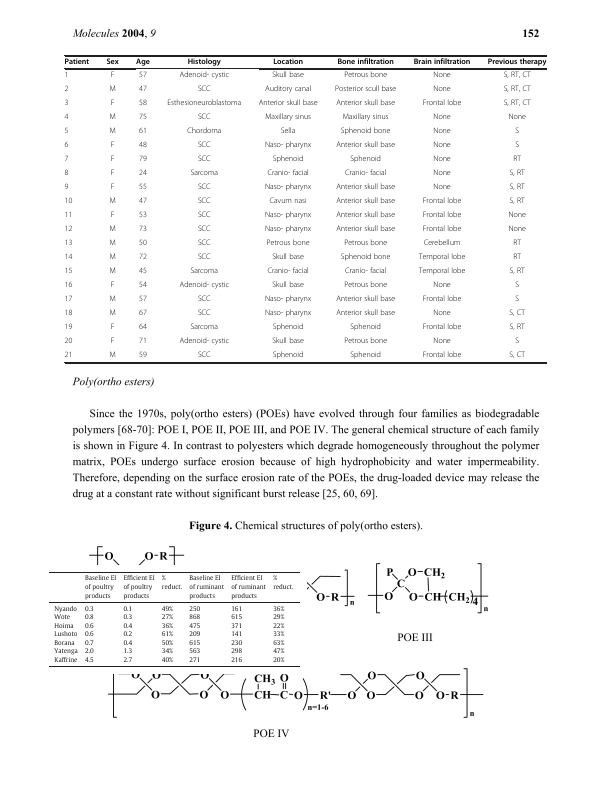borderless: (63, 54, 546, 362), (48, 570, 300, 666)
cell: (188, 575, 225, 600), (230, 575, 267, 600), (84, 575, 117, 600), (123, 575, 156, 600), (166, 99, 242, 109), (334, 85, 397, 95), (335, 99, 396, 109), (335, 141, 396, 151), (335, 183, 396, 193), (335, 197, 396, 207), (335, 211, 396, 221), (335, 225, 396, 235), (335, 295, 396, 305), (335, 309, 396, 319), (258, 99, 318, 109), (487, 58, 547, 67), (336, 58, 395, 67), (413, 58, 471, 67), (178, 71, 230, 81), (178, 281, 230, 291), (178, 337, 230, 347), (340, 127, 391, 137), (340, 253, 391, 263), (264, 85, 312, 95), (264, 113, 312, 123), (264, 141, 312, 151), (264, 183, 312, 193), (264, 211, 312, 221), (264, 225, 312, 235), (418, 253, 466, 263), (418, 267, 466, 277), (264, 295, 312, 305), (264, 309, 312, 319), (342, 113, 389, 123), (343, 71, 388, 81), (343, 239, 388, 249), (343, 281, 388, 291), (343, 337, 388, 347), (266, 169, 310, 179), (266, 239, 310, 249), (266, 267, 310, 277), (344, 169, 387, 179), (344, 267, 387, 277), (422, 99, 462, 109), (268, 197, 308, 207), (422, 197, 462, 207), (422, 211, 462, 221), (422, 225, 462, 235), (422, 295, 462, 305), (422, 323, 462, 333), (422, 351, 462, 361), (423, 239, 461, 249), (272, 575, 295, 591), (186, 127, 222, 137), (161, 575, 183, 591), (271, 71, 305, 81), (271, 253, 305, 263), (271, 281, 305, 291), (271, 337, 305, 347), (349, 155, 382, 165), (349, 323, 382, 333), (349, 351, 382, 361), (272, 155, 304, 165), (272, 323, 304, 333), (272, 351, 304, 361), (187, 58, 222, 67), (189, 169, 219, 179), (189, 267, 219, 277), (189, 323, 219, 333), (503, 71, 532, 81), (503, 85, 532, 95), (503, 99, 532, 109), (272, 58, 304, 67), (53, 656, 79, 665), (64, 58, 90, 67), (53, 630, 78, 639), (53, 648, 79, 656), (53, 605, 78, 613), (432, 71, 452, 81), (432, 85, 452, 95), (432, 113, 452, 123), (507, 113, 527, 123), (432, 127, 452, 137), (432, 141, 452, 151), (432, 155, 452, 165), (432, 169, 452, 179), (432, 183, 452, 193), (507, 211, 527, 221), (507, 225, 527, 235), (432, 281, 452, 291), (432, 309, 452, 319), (432, 337, 452, 347), (53, 639, 76, 647), (508, 309, 526, 319), (508, 351, 526, 361), (53, 622, 75, 630), (509, 169, 526, 179), (509, 183, 526, 193), (509, 197, 526, 207), (509, 267, 526, 277), (509, 323, 526, 333), (53, 613, 71, 622), (280, 127, 296, 137), (135, 58, 151, 67), (197, 85, 211, 95), (197, 113, 211, 123), (197, 141, 211, 151), (197, 155, 211, 165), (197, 183, 211, 193), (197, 197, 211, 207), (197, 211, 211, 221), (197, 225, 211, 235), (197, 239, 211, 249), (197, 253, 211, 263), (197, 295, 211, 305), (197, 309, 211, 319), (197, 351, 211, 361), (105, 58, 120, 67), (161, 613, 174, 622), (188, 613, 201, 622), (230, 613, 243, 622), (272, 613, 285, 622), (161, 630, 174, 639), (188, 630, 201, 639), (230, 630, 243, 639), (272, 630, 285, 639), (161, 656, 174, 665), (188, 656, 201, 665), (230, 656, 243, 665), (272, 656, 285, 665), (161, 605, 174, 613), (188, 605, 201, 613), (230, 605, 243, 613), (272, 605, 285, 613), (161, 622, 174, 630), (188, 622, 201, 630), (230, 622, 243, 630), (272, 622, 285, 630), (161, 639, 174, 647), (188, 639, 201, 647), (230, 639, 243, 647), (272, 639, 285, 647), (161, 648, 174, 656), (188, 648, 201, 656), (230, 648, 243, 656), (272, 648, 285, 656), (138, 71, 148, 81), (138, 85, 148, 95), (138, 99, 148, 109), (138, 113, 148, 123), (138, 127, 148, 137), (138, 141, 148, 151), (138, 155, 148, 165), (512, 155, 522, 165), (138, 169, 148, 179), (138, 183, 148, 193), (138, 197, 148, 207), (138, 211, 148, 221), (138, 225, 148, 235), (138, 239, 148, 249), (512, 239, 522, 249), (138, 253, 148, 263), (512, 253, 522, 263), (138, 267, 148, 277), (138, 281, 148, 291), (138, 295, 148, 305), (138, 309, 148, 319), (138, 323, 148, 333), (138, 337, 148, 347), (138, 351, 148, 361), (84, 613, 95, 622), (84, 630, 95, 639), (84, 656, 95, 665), (123, 613, 133, 622), (123, 630, 133, 639), (123, 656, 133, 665), (108, 85, 117, 95), (108, 113, 117, 123), (108, 127, 117, 137), (64, 197, 73, 207), (108, 197, 117, 207), (64, 211, 73, 221), (64, 225, 73, 235), (108, 225, 117, 235), (64, 239, 73, 249), (108, 239, 117, 249), (64, 253, 73, 263), (108, 253, 117, 263), (64, 267, 73, 277), (108, 267, 117, 277), (64, 281, 73, 291), (64, 295, 73, 305), (108, 295, 117, 305), (64, 309, 73, 319), (108, 309, 117, 319), (64, 323, 73, 333), (64, 337, 73, 347), (64, 351, 73, 361), (108, 351, 117, 361), (84, 605, 95, 613), (84, 622, 95, 630), (84, 639, 95, 647), (84, 648, 95, 656), (123, 605, 133, 613), (123, 622, 133, 630), (123, 639, 133, 647), (123, 648, 133, 656), (514, 127, 520, 137), (514, 141, 520, 151), (514, 281, 520, 291), (514, 295, 520, 305), (514, 337, 520, 347), (64, 71, 69, 81), (110, 71, 115, 81), (64, 85, 69, 95), (64, 99, 69, 109), (110, 99, 115, 109), (64, 113, 69, 123), (64, 127, 69, 137), (64, 141, 69, 151), (110, 141, 115, 151), (64, 155, 69, 165), (110, 155, 115, 165), (64, 169, 69, 179), (110, 169, 115, 179), (64, 183, 69, 193), (110, 183, 115, 193), (110, 211, 115, 221), (110, 281, 115, 291), (110, 323, 115, 333), (110, 337, 115, 347)
